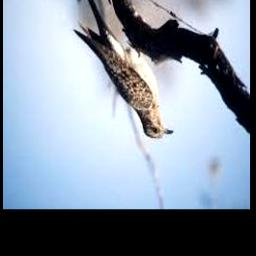Cuckoo: (73, 0, 173, 139)
